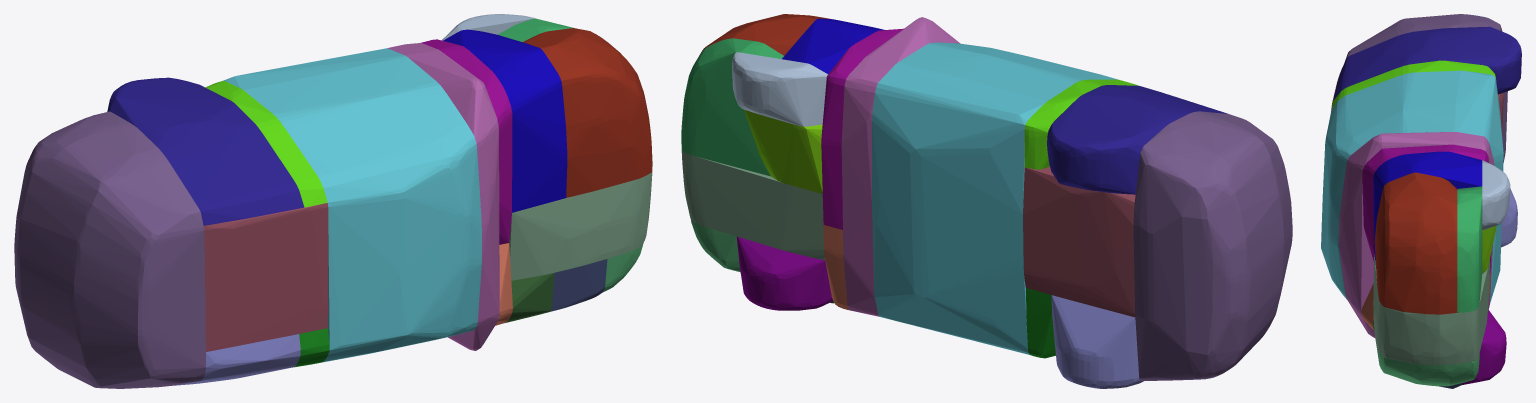
Rendered from coacd_collision.obj.
3 renders of one model, left to right at view 1: azimuth 30°, elevation 25°; view 2: azimuth 150°, elevation 25°; view 3: azimuth 270°, elevation 25°, orthographic. The views are drawn at different scales.
Visible parts, largest first — view 1: geometry_2, geometry_1, geometry_13, geometry_18, geometry_15, geometry_5, geometry_0, geometry_7, geometry_14, geometry_17, geometry_12, geometry_16 (+6 smaller); view 2: geometry_2, geometry_1, geometry_13, geometry_18, geometry_7, geometry_0, geometry_10, geometry_12, geometry_6, geometry_11, geometry_14, geometry_4 (+6 smaller); view 3: geometry_2, geometry_15, geometry_18, geometry_0, geometry_7, geometry_10, geometry_5, geometry_1, geometry_14, geometry_3, geometry_6, geometry_17 (+5 smaller).
Part boxes in pixels (bbox=[...]): geometry_2: bbox=[223, 48, 481, 362]; geometry_1: bbox=[14, 111, 206, 388]; geometry_13: bbox=[203, 203, 328, 351]; geometry_18: bbox=[107, 77, 304, 225]; geometry_15: bbox=[523, 28, 652, 197]; geometry_5: bbox=[443, 29, 567, 212]; geometry_0: bbox=[509, 161, 652, 280]; geometry_7: bbox=[387, 43, 499, 350]; geometry_14: bbox=[421, 39, 512, 244]; geometry_17: bbox=[205, 81, 327, 207]; geometry_12: bbox=[174, 334, 300, 385]; geometry_16: bbox=[548, 259, 607, 312]; geometry_2: bbox=[872, 42, 1117, 354]; geometry_1: bbox=[1133, 111, 1292, 380]; geometry_13: bbox=[1023, 166, 1135, 317]; geometry_18: bbox=[1047, 85, 1227, 194]; geometry_7: bbox=[841, 17, 960, 316]; geometry_0: bbox=[681, 149, 824, 260]; geometry_10: bbox=[681, 38, 783, 176]; geometry_12: bbox=[1051, 295, 1143, 388]; geometry_6: bbox=[732, 52, 827, 126]; geometry_11: bbox=[736, 236, 833, 310]; geometry_14: bbox=[821, 28, 903, 229]; geometry_4: bbox=[744, 109, 822, 193]; geometry_2: bbox=[1321, 70, 1503, 303]; geometry_15: bbox=[1374, 172, 1457, 314]; geometry_18: bbox=[1333, 26, 1521, 100]; geometry_0: bbox=[1373, 254, 1489, 365]; geometry_7: bbox=[1339, 132, 1494, 337]; geometry_10: bbox=[1457, 186, 1482, 312]; geometry_5: bbox=[1373, 151, 1482, 264]; geometry_1: bbox=[1344, 14, 1507, 163]; geometry_14: bbox=[1362, 144, 1491, 274]; geometry_3: bbox=[1376, 344, 1479, 386]; geometry_6: bbox=[1482, 160, 1510, 230]; geometry_17: bbox=[1331, 60, 1496, 109].
Size of the model in its own units: 121 by 53.38 by 46.16.
